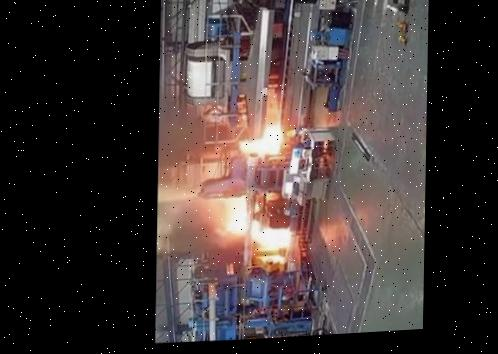fire: (163, 35, 337, 287)
